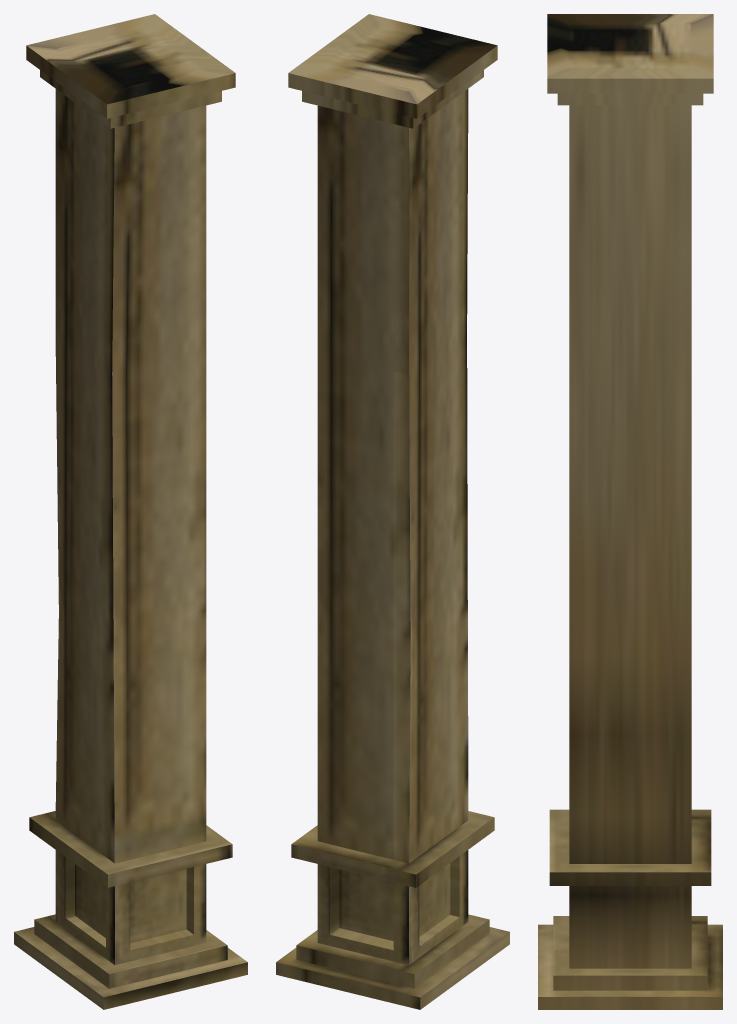
File: dungeonPillar.glb
The picture shows the model from 3 angles, left to right: view 1: azimuth 30°, elevation 25°; view 2: azimuth 150°, elevation 25°; view 3: azimuth 270°, elevation 25°; orthographic projection. The views are drawn at different scales.
Parts seen in each view (by area): view 1: dungeonPillar; view 2: dungeonPillar; view 3: dungeonPillar.
Boxes of the visible parts, left/top/right/bottom form: dungeonPillar: left=14, top=14, right=247, bottom=1009; dungeonPillar: left=276, top=14, right=509, bottom=1009; dungeonPillar: left=538, top=14, right=722, bottom=1009.
Bounding box in the file's own units: 0.6669 × 3.98 × 0.7181.
Materials: 1 (1 with a texture image).
